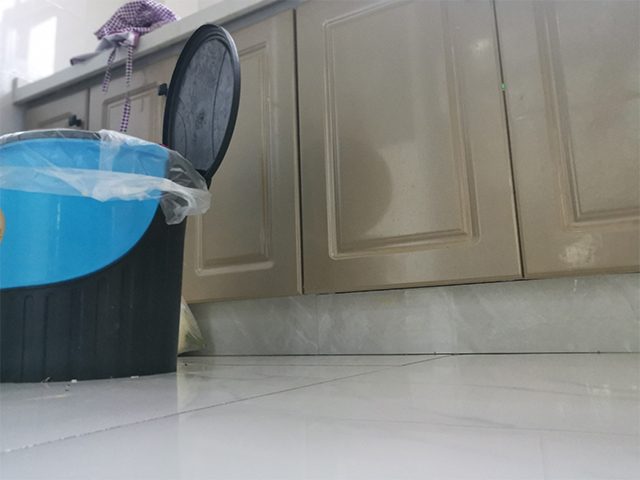cabinet: (245, 1, 639, 354)
trashcan: (1, 20, 244, 384)
